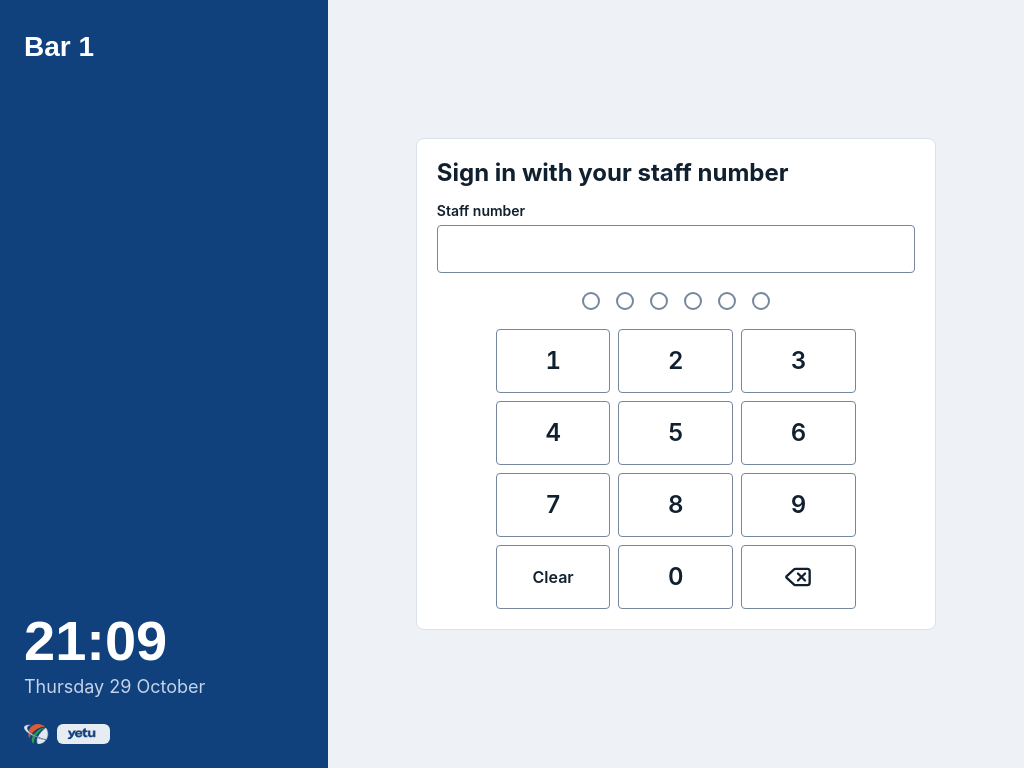
PIN entry › asks for the staff number before checking a PIN typed without one
Click the button "4": (553,433) [496,401,610,465]
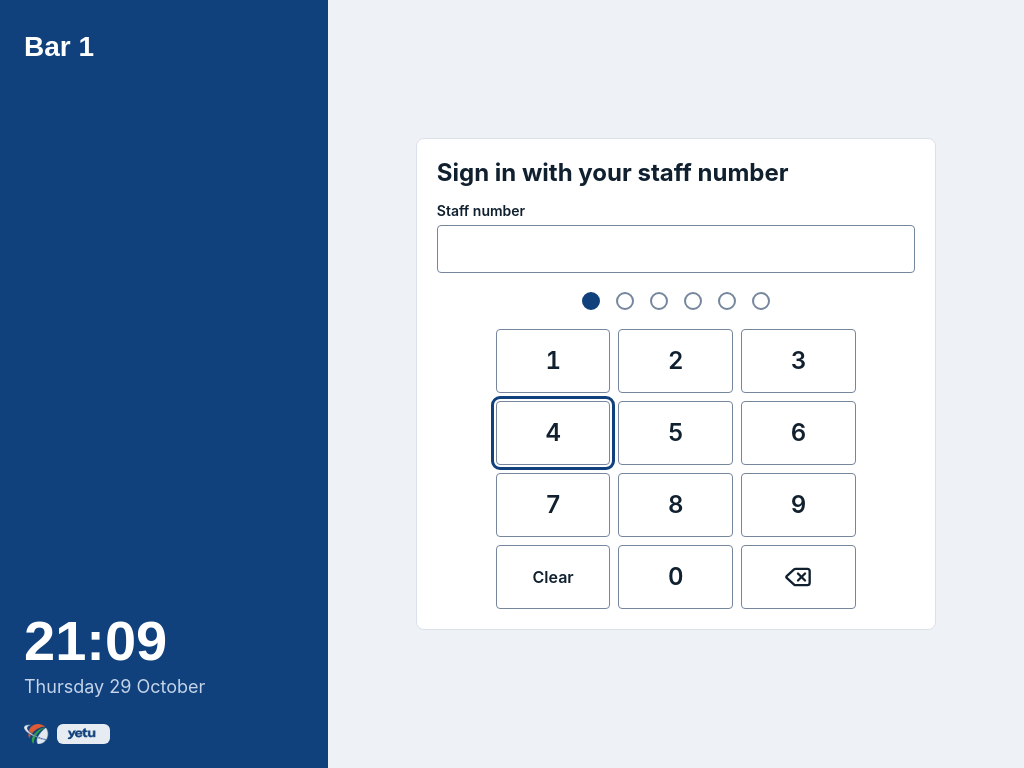
Click the button with test id "pin-key-1": (553,361) [496,329,610,393]
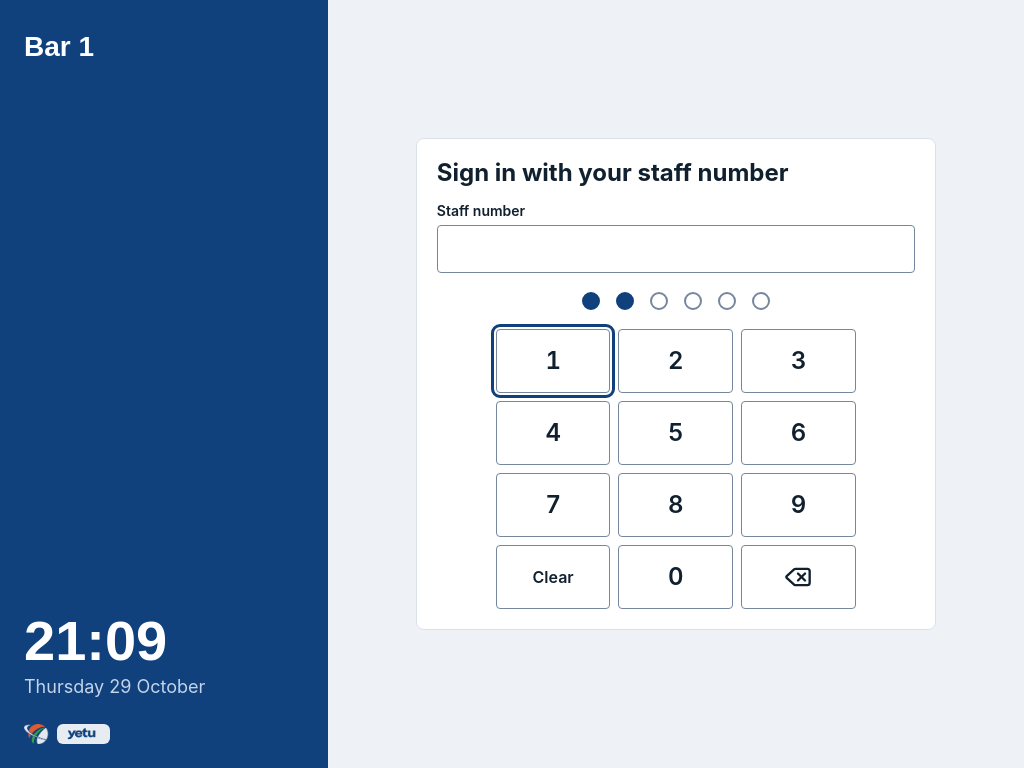
Click the button "8": (676,505) [618,473,733,537]
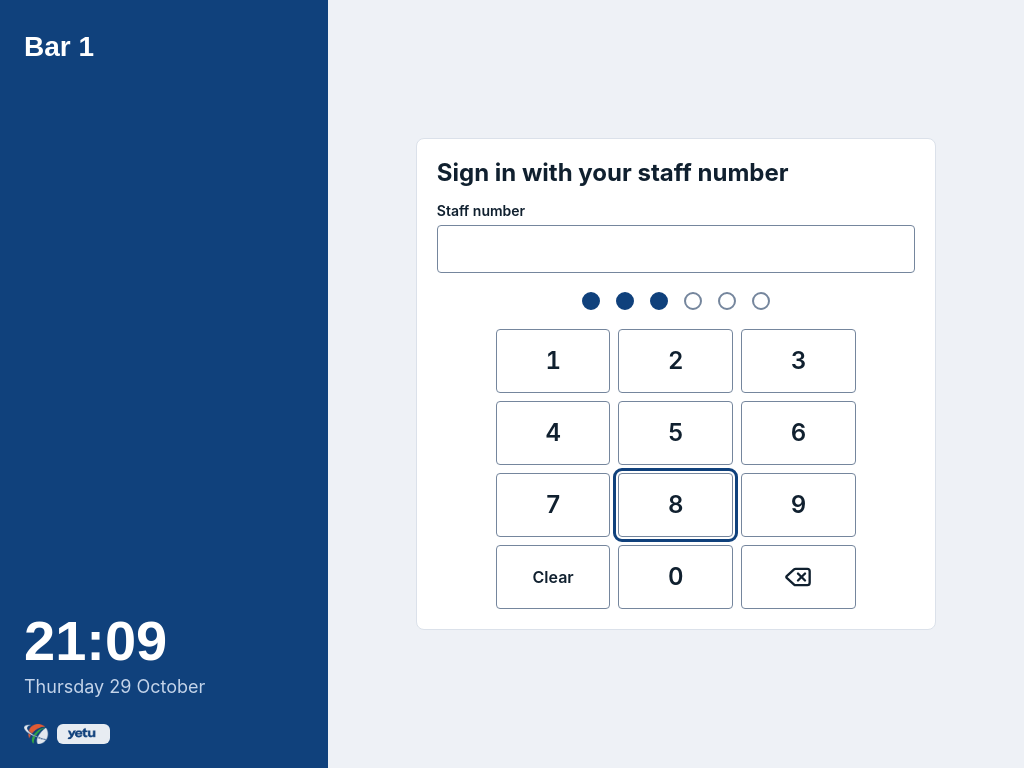
Click the button "2": (676,361) [618,329,733,393]
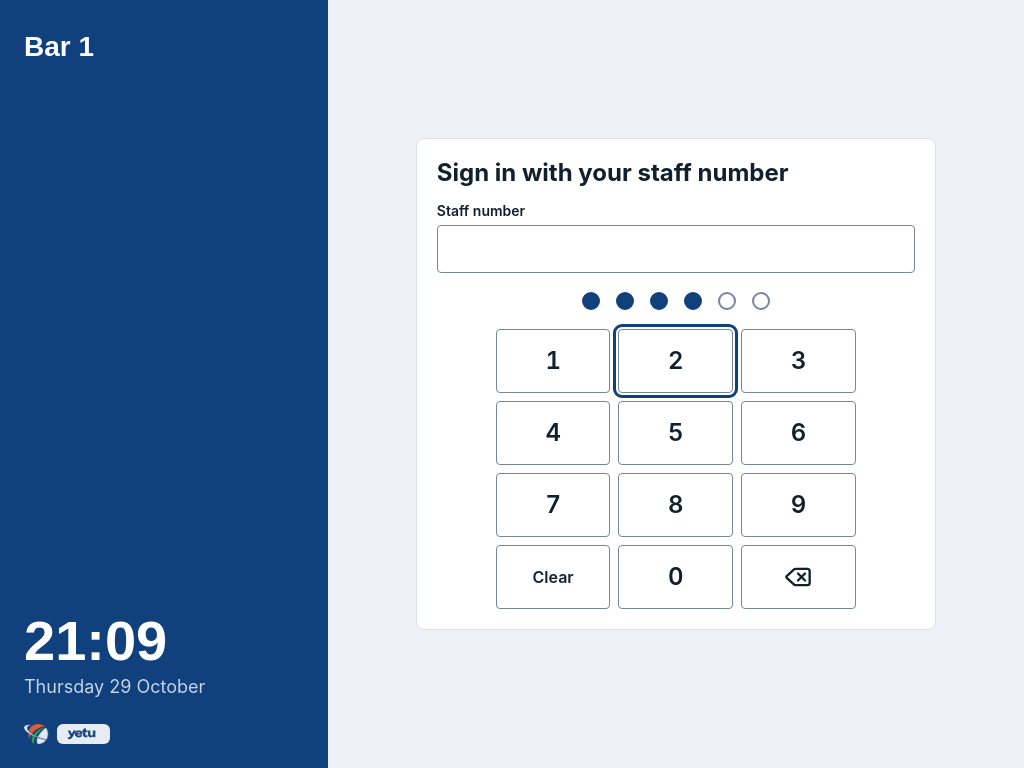
Click the button "0": (676,577) [618,545,733,609]
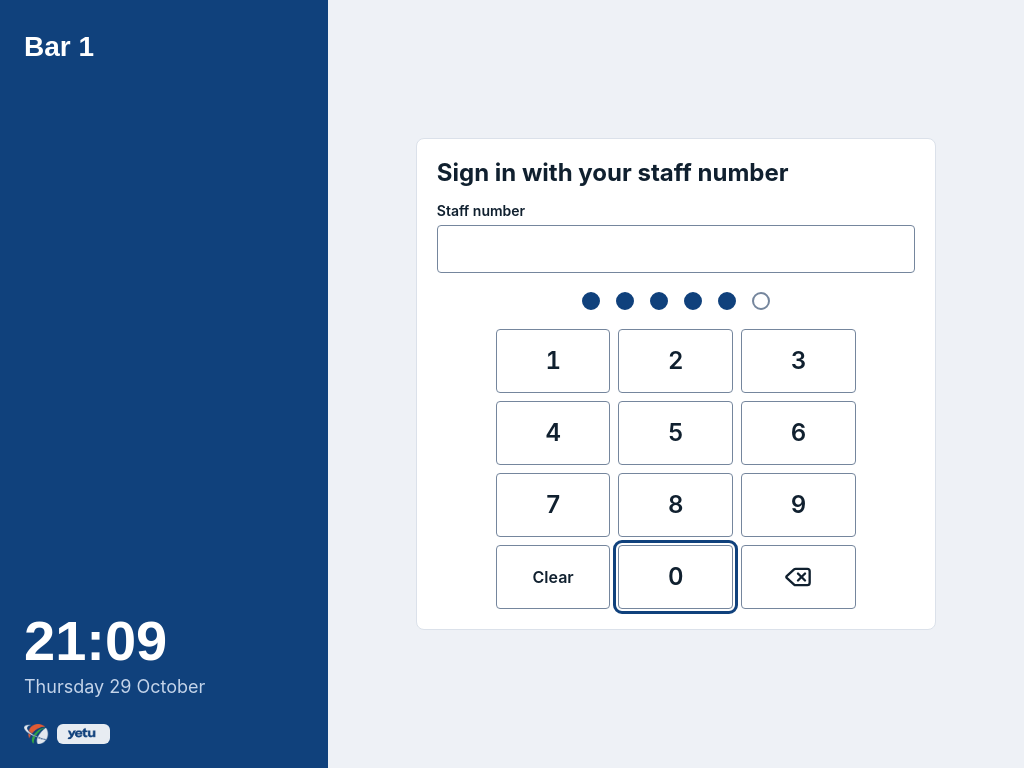
Click the button "5": (676,433) [618,401,733,465]
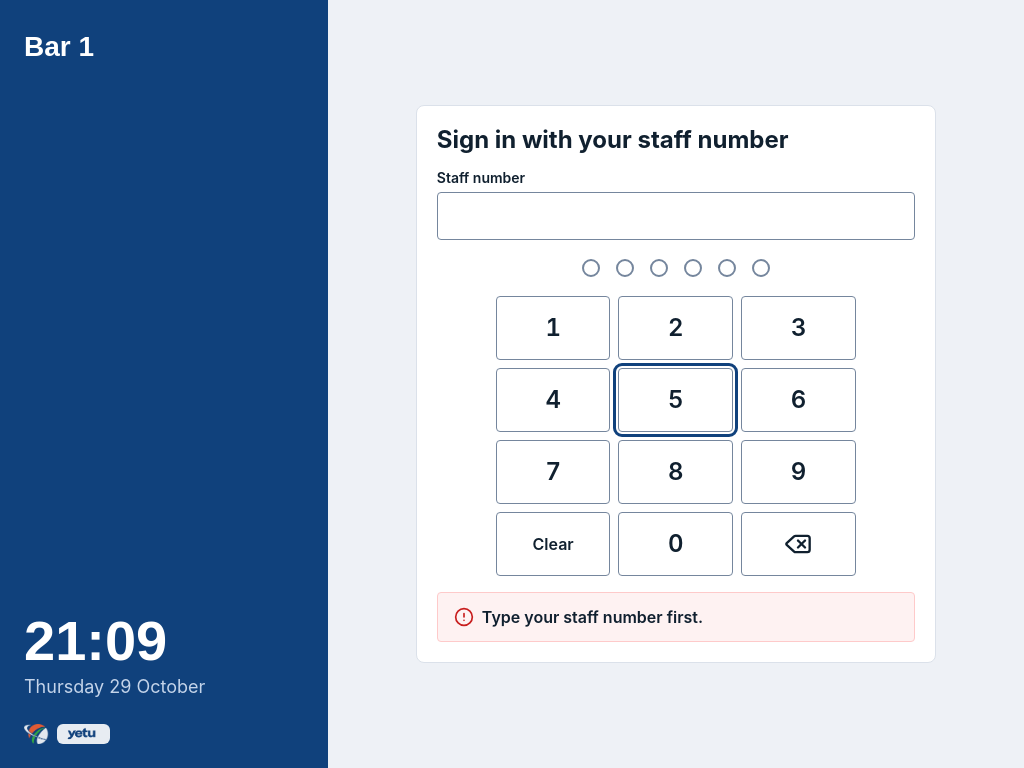
Expected: the message with test id "pin-error" reads "Type your staff number first.", [482,607,703,627]
